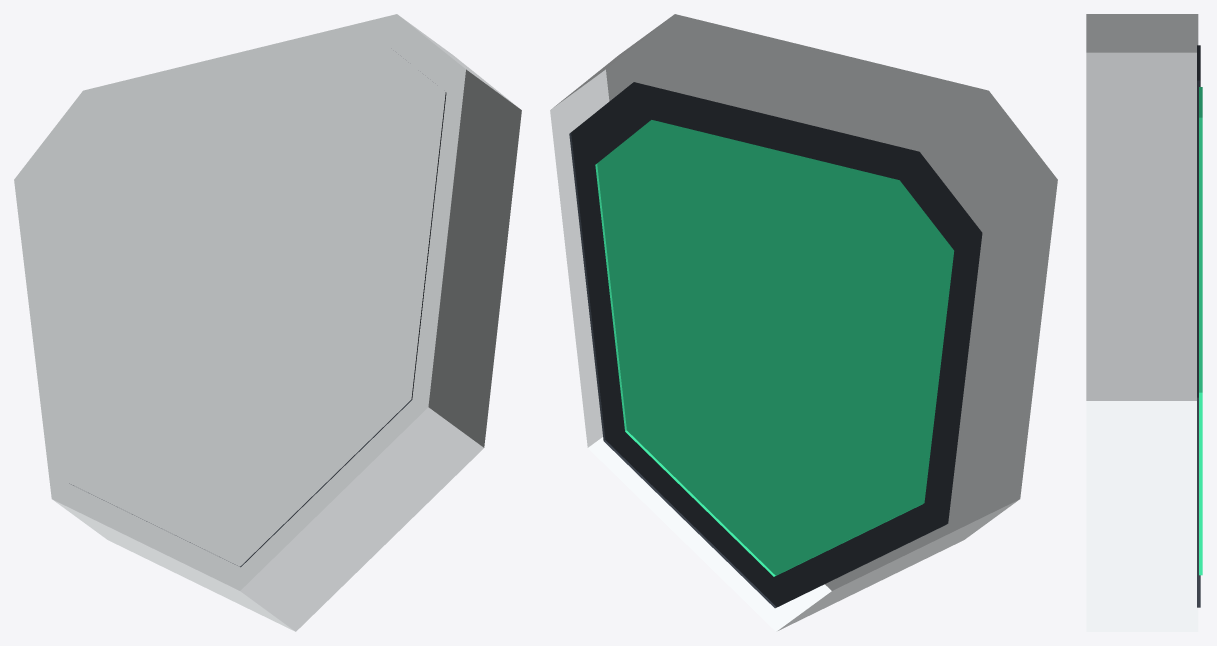
Rendered from shield-v1.glb.
3 renders of one model, left to right at view 1: azimuth 30°, elevation 25°; view 2: azimuth 150°, elevation 25°; view 3: azimuth 270°, elevation 25°, orthographic.
Visible parts, largest first — view 1: guard/shield-v1; view 2: guard/shield-v1; view 3: guard/shield-v1.
Part boxes in pixels (bbox=[...]): guard/shield-v1: bbox=[14, 14, 521, 631]; guard/shield-v1: bbox=[550, 14, 1057, 631]; guard/shield-v1: bbox=[1086, 14, 1202, 631].
Size of the model in its own units: 0.72 by 0.82 by 0.16.
